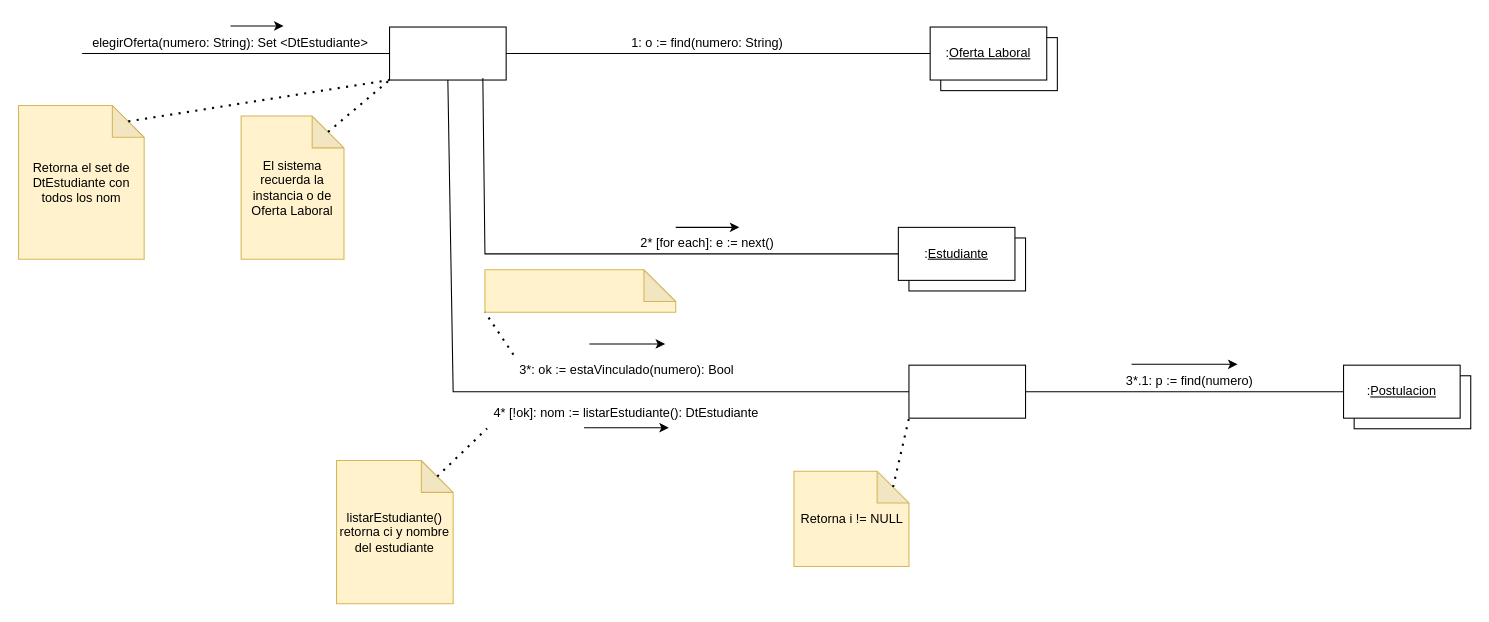
Some shapes in this 1489 by 622 pixel diagram are drawn without their labels. The shapes that lost their labels are listed below. From the top down, each one's centre as x and y in pixels, then its label:
the point at 447,53: : Sistema
the point at 580,290: ok se inicia en false
the point at 967,391: e: Estudiante
